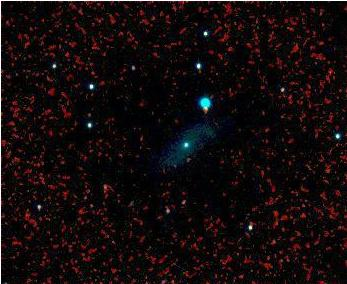star: (169, 145, 199, 175)
